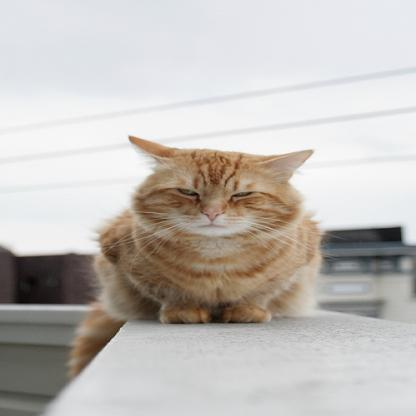cat: (66, 134, 322, 379)
